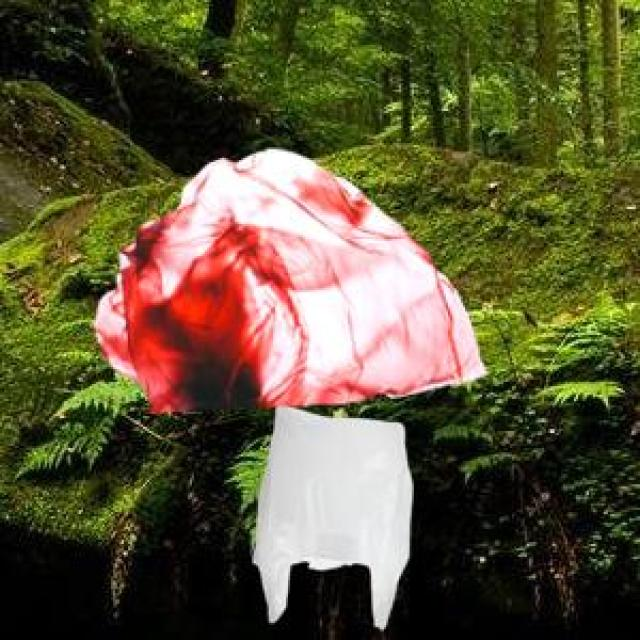plastic: (74, 110, 511, 624)
